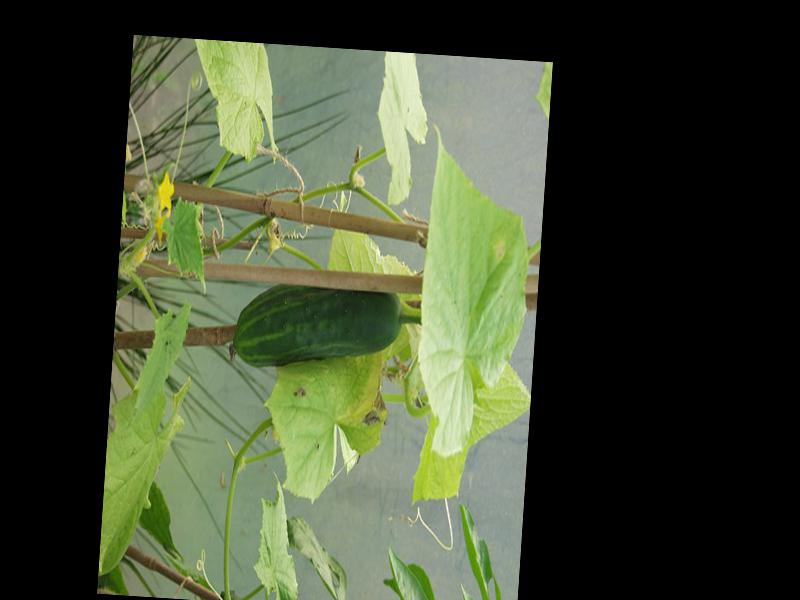Cucumber: (228, 280, 403, 378)
